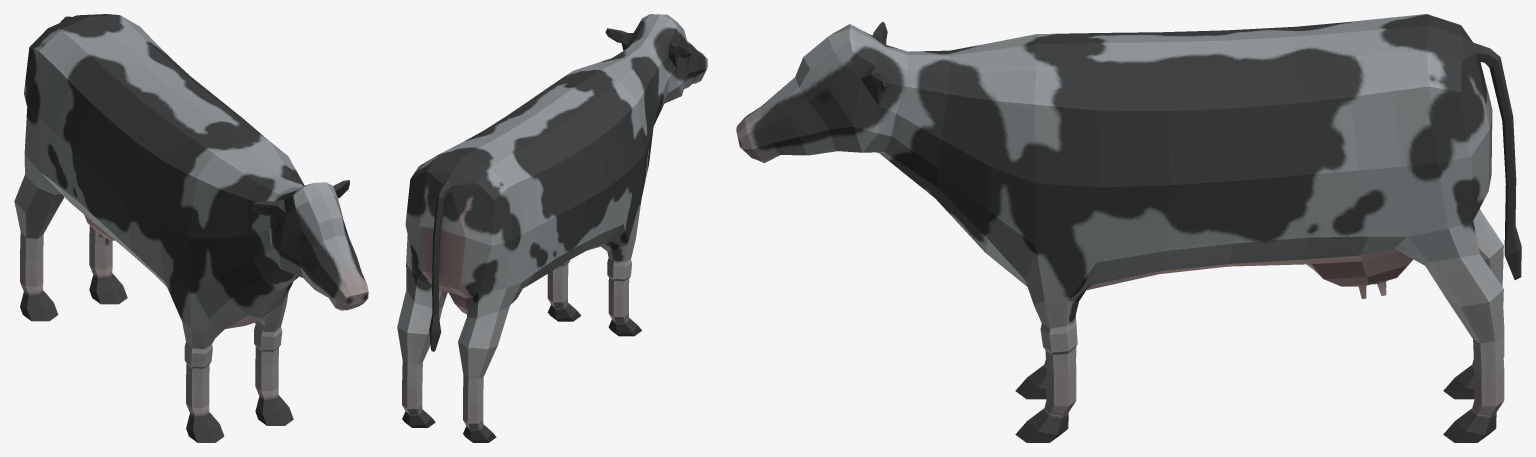
The model's file is animal-cow-detailed.glb.
The picture shows the model from 3 angles, left to right: view 1: azimuth 30°, elevation 25°; view 2: azimuth 150°, elevation 25°; view 3: azimuth 270°, elevation 25°; orthographic projection. The views are drawn at different scales.
Parts seen in each view (by area): view 1: node-0; view 2: node-0; view 3: node-0.
Boxes of the visible parts, bbox=[...] form: node-0: bbox=[14, 14, 368, 442]; node-0: bbox=[397, 14, 707, 442]; node-0: bbox=[736, 14, 1521, 442].
Size of the model in its own units: 3.36 by 7.42 by 13.65.
Materials: 1 (1 with a texture image).
